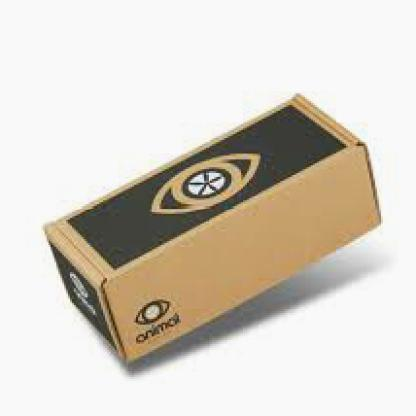box: (41, 87, 395, 383)
